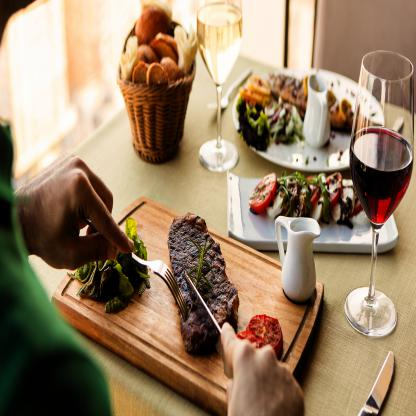Carne: (166, 202, 236, 350)
